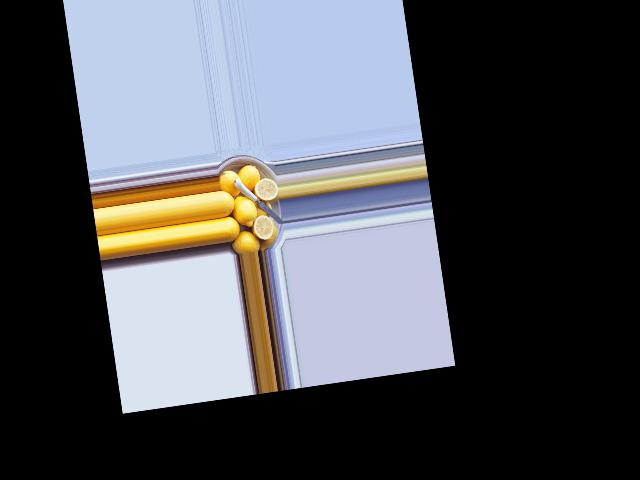lemon: (230, 227, 263, 254)
